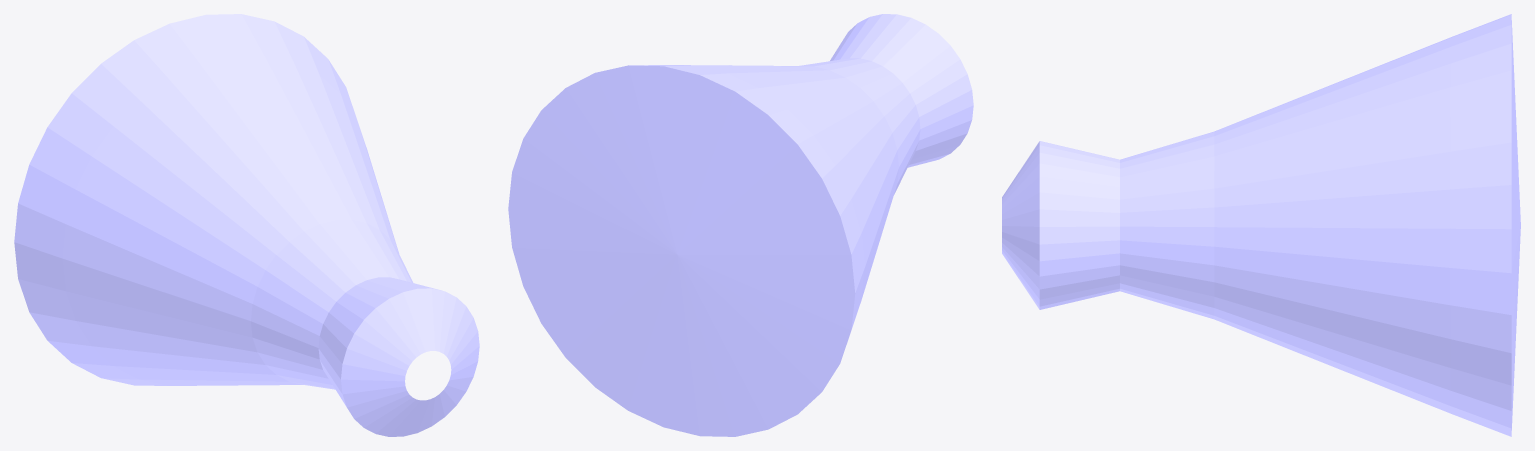
File: draped-silhouette-gown.glb
The picture shows the model from 3 angles, left to right: view 1: azimuth 30°, elevation 25°; view 2: azimuth 150°, elevation 25°; view 3: azimuth 270°, elevation 25°; orthographic projection. The views are drawn at different scales.
Bounding box in the file's own units: 0.54 × 0.537 × 0.66.
